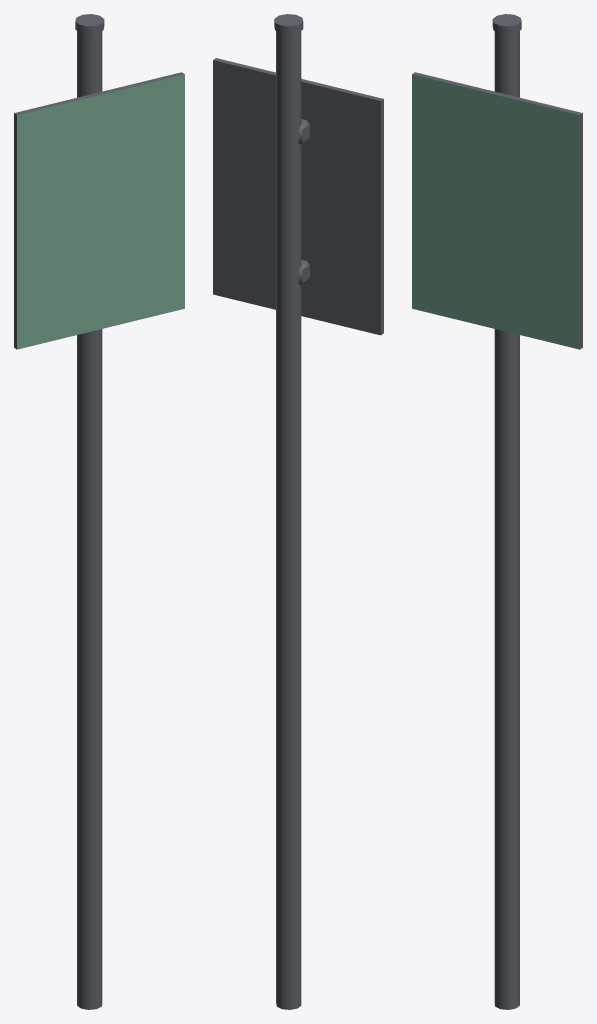
Rendered from NoParkingSign.fbx.
The picture shows the model from 3 angles, left to right: view 1: azimuth 30°, elevation 25°; view 2: azimuth 150°, elevation 25°; view 3: azimuth 330°, elevation 25°; orthographic projection.
Visible parts, largest first — view 1: NoParkingSign; view 2: NoParkingSign; view 3: NoParkingSign.
Part boxes in pixels (x1,y1,x2,y2): NoParkingSign: (14, 14, 184, 1009); NoParkingSign: (213, 14, 383, 1009); NoParkingSign: (412, 14, 582, 1009).
Size of the model in its own units: 0.45 by 2.52 by 0.0865.
